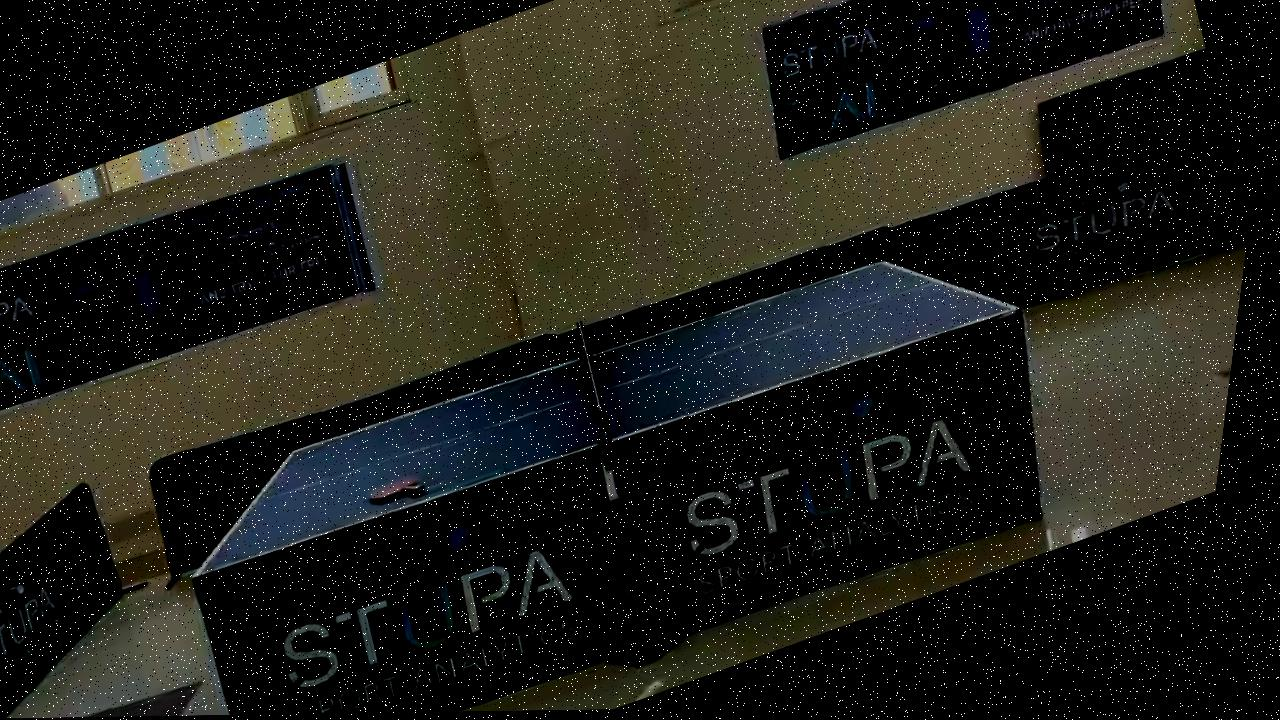table: (170, 207, 1032, 608)
